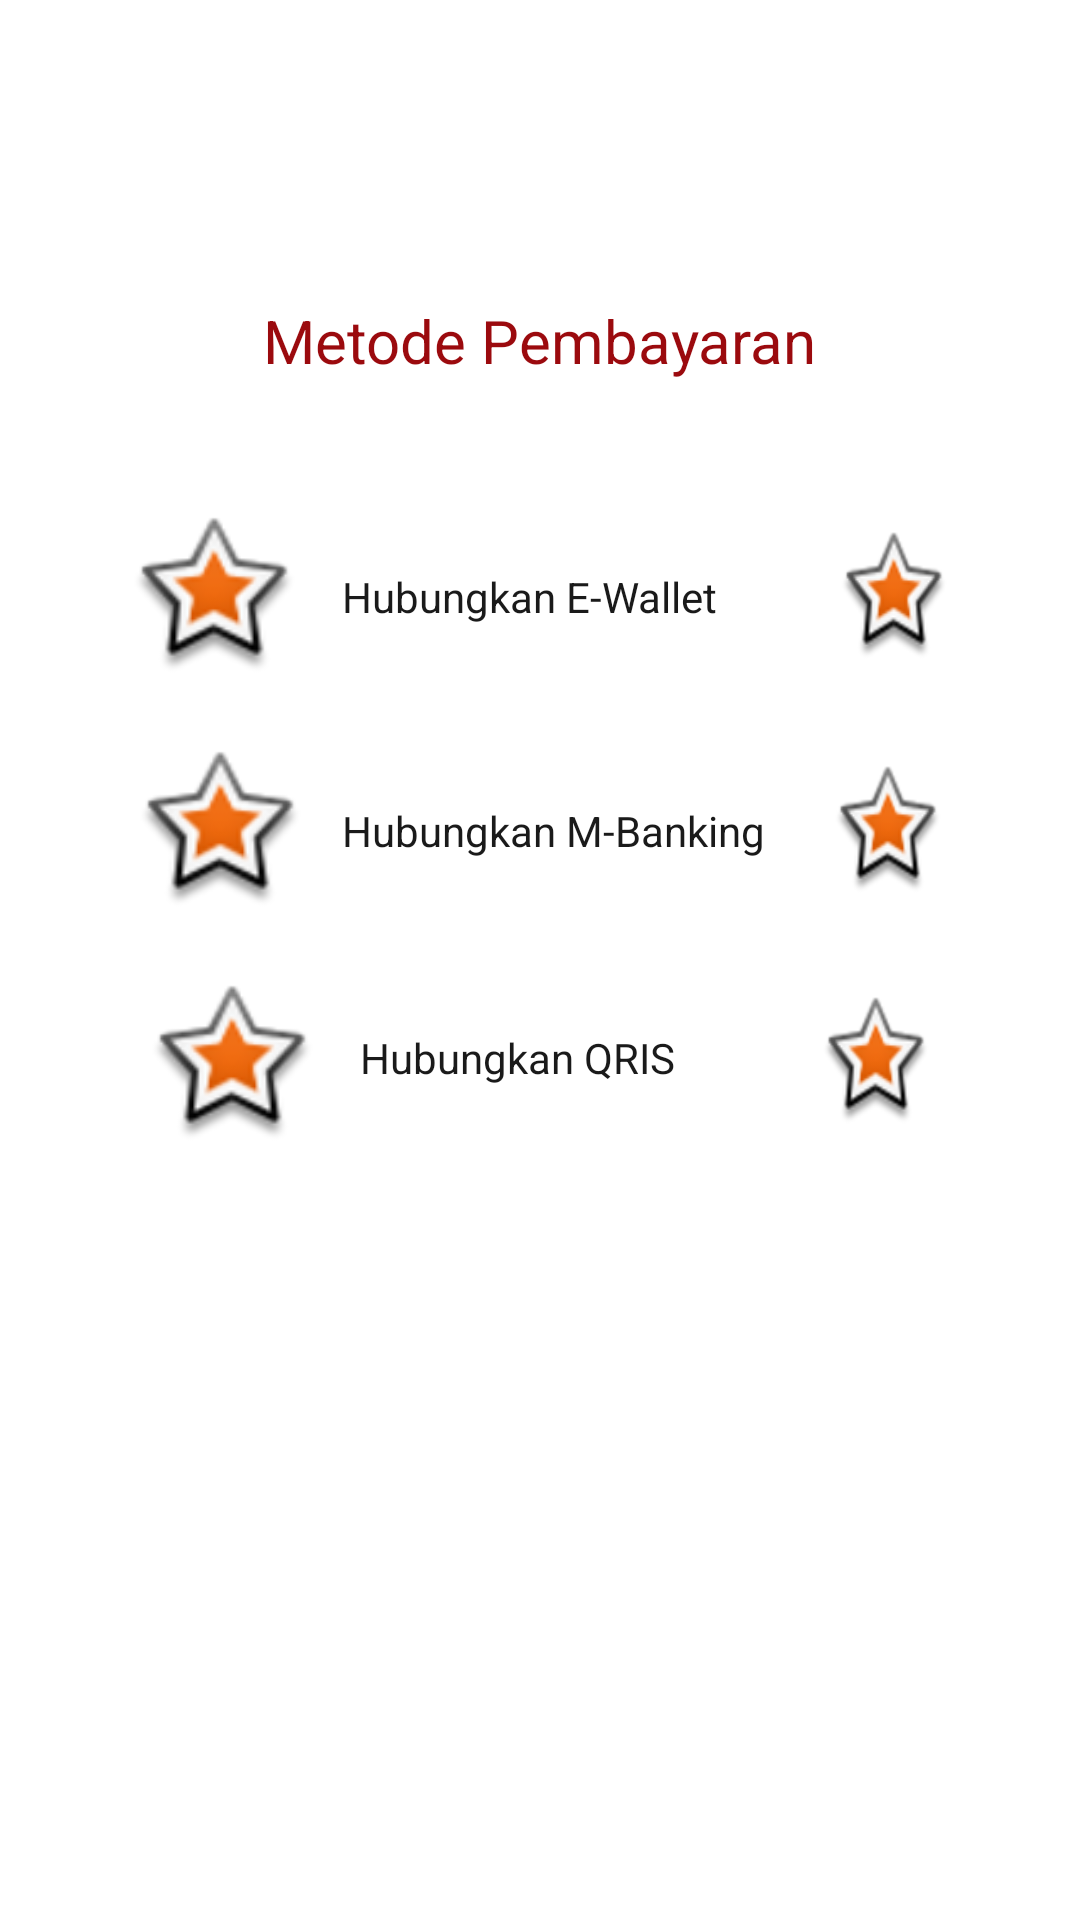

Icon bounding boxes for this 1080px×1920px phone screenshot, format (x1, y1, x2, y2):
star on: (141, 518, 288, 665), (846, 533, 942, 652), (147, 752, 294, 899), (840, 767, 936, 886), (159, 986, 306, 1133), (828, 998, 924, 1117)
